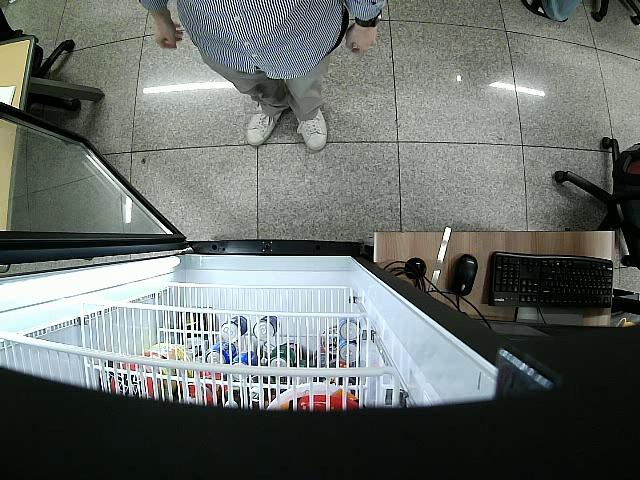00_hand: (343, 24, 377, 58), (152, 20, 184, 49)
